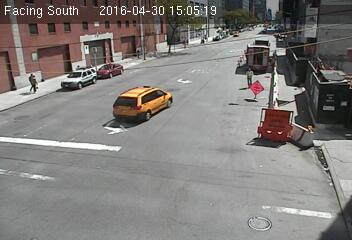neg: (62, 64, 79, 86), (173, 65, 189, 87), (205, 34, 216, 48), (150, 58, 160, 71)
pos: (23, 73, 40, 95), (243, 68, 259, 89)
